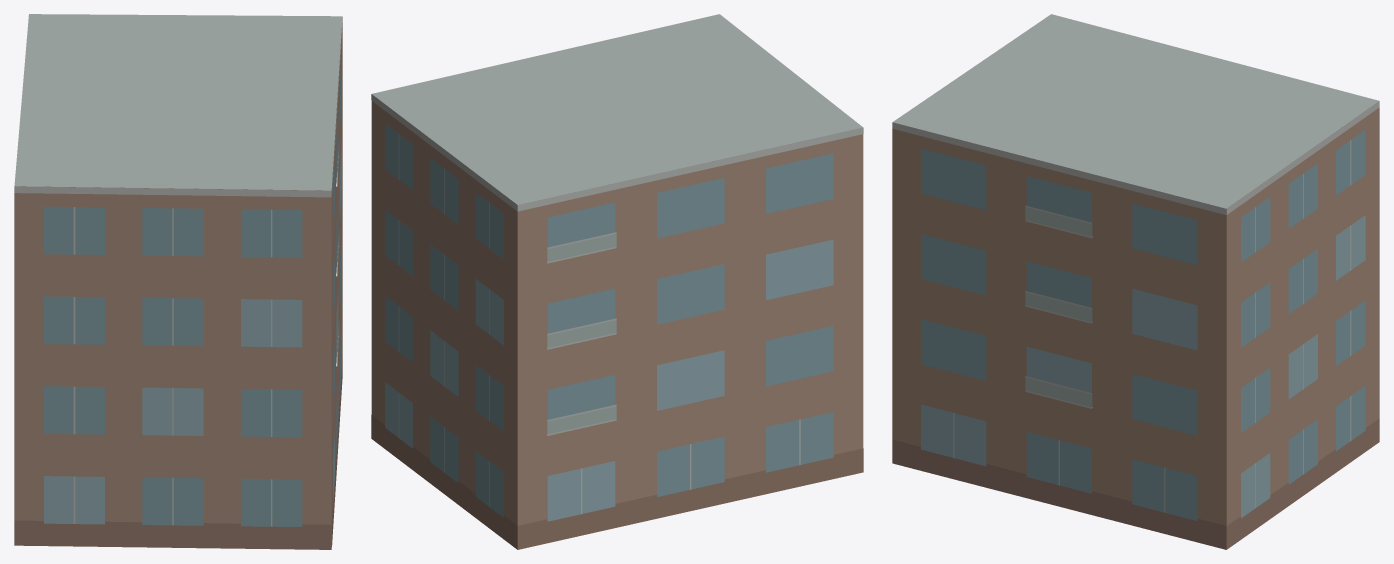
The model's file is survey-upis-33034099.glb.
The picture shows the model from 3 angles, left to right: view 1: azimuth 30°, elevation 25°; view 2: azimuth 150°, elevation 25°; view 3: azimuth 270°, elevation 25°; orthographic projection. The views are drawn at different scales.
Parts seen in each view (by area): view 1: survey-upis-33034099.tmp; view 2: survey-upis-33034099.tmp; view 3: survey-upis-33034099.tmp.
Boxes of the visible parts, x1,y1,x2,y2 form: survey-upis-33034099.tmp: (14,14,342,549); survey-upis-33034099.tmp: (371,14,863,549); survey-upis-33034099.tmp: (892,14,1379,549).
Bounding box in the file's own units: 15.8 × 12.9 × 16.71.
